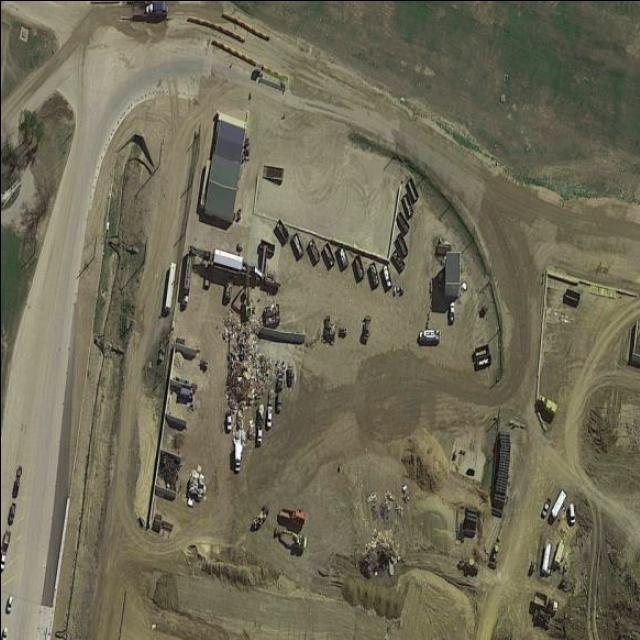dump_site: (220, 313, 270, 403)
